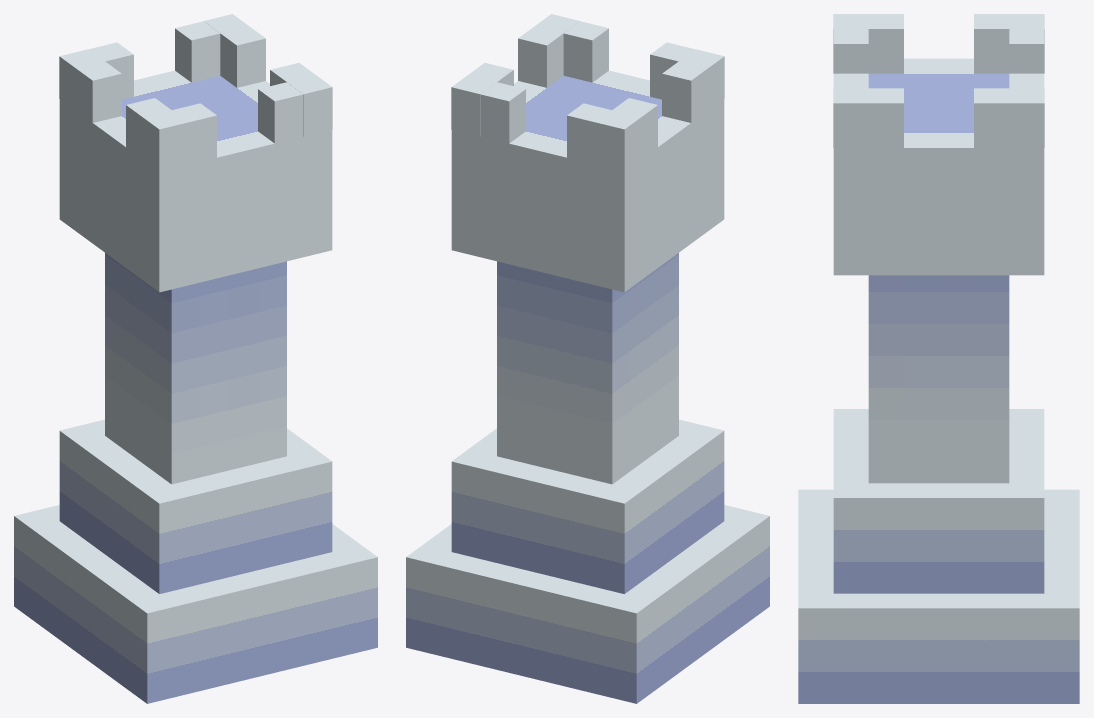
The model's file is Rook White.gltf.
3 renders of one model, left to right at view 1: azimuth 30°, elevation 25°; view 2: azimuth 150°, elevation 25°; view 3: azimuth 270°, elevation 25°, orthographic. The views are drawn at different scales.
Visible parts, largest first — view 1: cube (×12); view 2: cube (×12); view 3: cube (×12).
Part boxes in pixels (box(x1,y1,x2,y2)): cube (×12): box(14, 14, 377, 703); cube (×12): box(406, 14, 769, 703); cube (×12): box(798, 14, 1079, 703).
Size of the model in its own units: 0.125 by 0.2876 by 0.125.
Materials: 1 (1 with a texture image).
